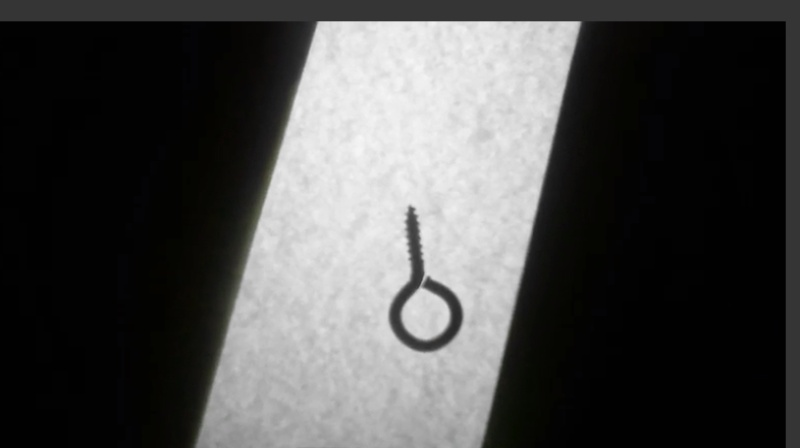O001: (385, 202, 466, 355)
